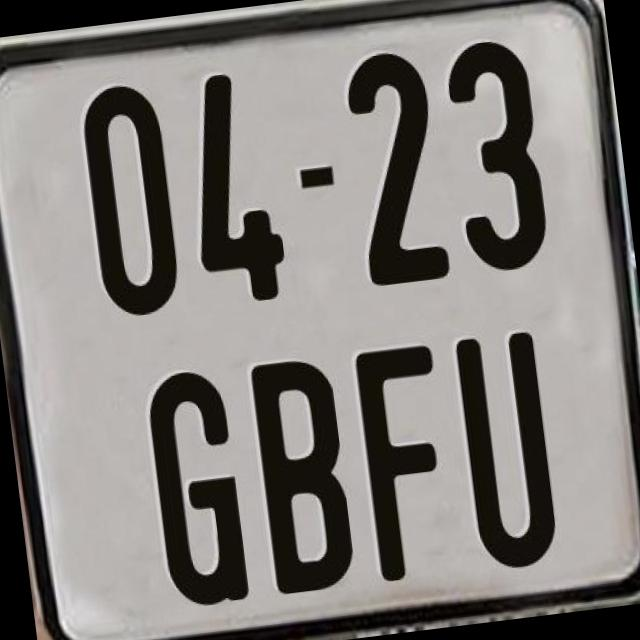0: (76, 80, 186, 324)
2: (340, 46, 451, 286)
3: (444, 37, 554, 280)
4: (174, 68, 288, 308)
B: (250, 350, 364, 596)
F: (354, 338, 464, 576)
G: (142, 368, 250, 617)
U: (451, 332, 561, 572)
